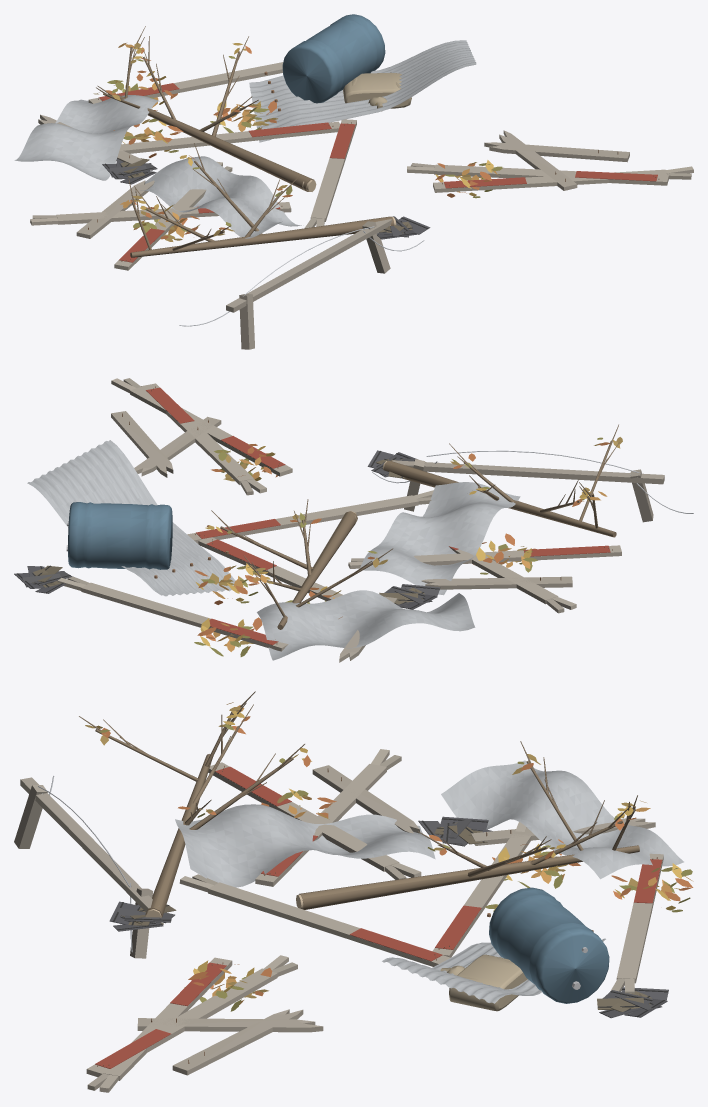
File: storm_shelter_debris_a.glb
3 views of the same model, one above another, from view 1: azimuth 30°, elevation 25°; view 2: azimuth 150°, elevation 25°; view 3: azimuth 270°, elevation 25° (orthographic). The views are drawn at different scales.
Parts seen in each view (by area): view 1: body; view 2: body; view 3: body.
Boxes of the visible parts, x1,y1,x2,y2 form: body: (14, 14, 693, 349); body: (14, 378, 693, 662); body: (14, 691, 693, 1092).
Size of the model in its own units: 5.84 by 1.12 by 4.94.
